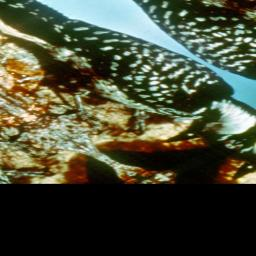Woodpecker: (0, 0, 256, 179)
